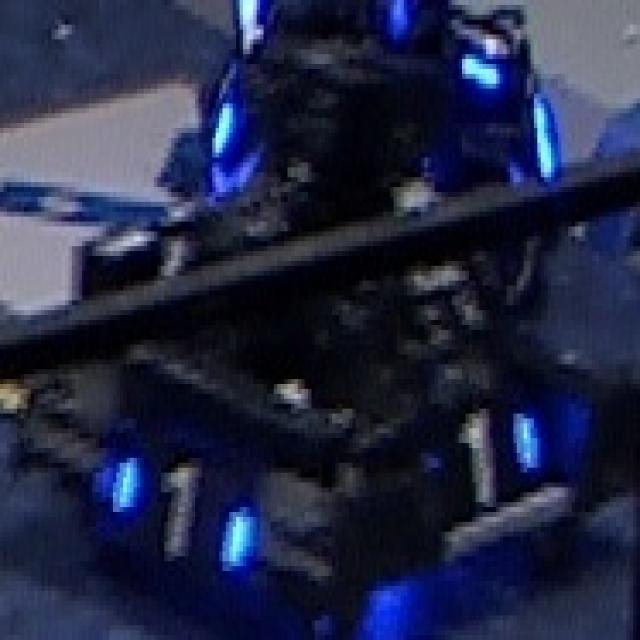B1: (109, 448, 250, 571)
